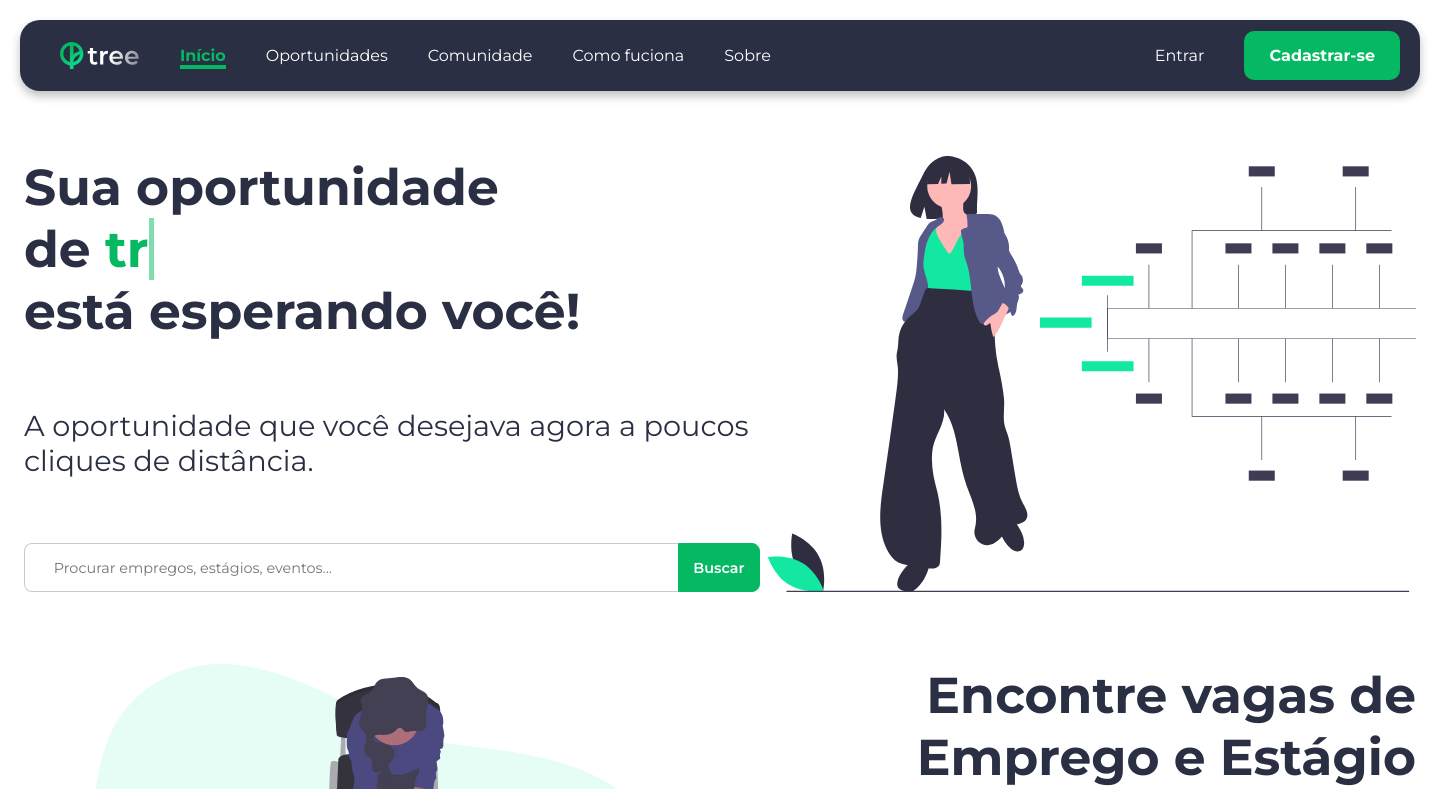
Scenario: Fluxo navbar › Checar pagína de Comunidade
Step 1. Click the link with test id "goCommunity" → x=481, y=56, box [428, 46, 533, 65]
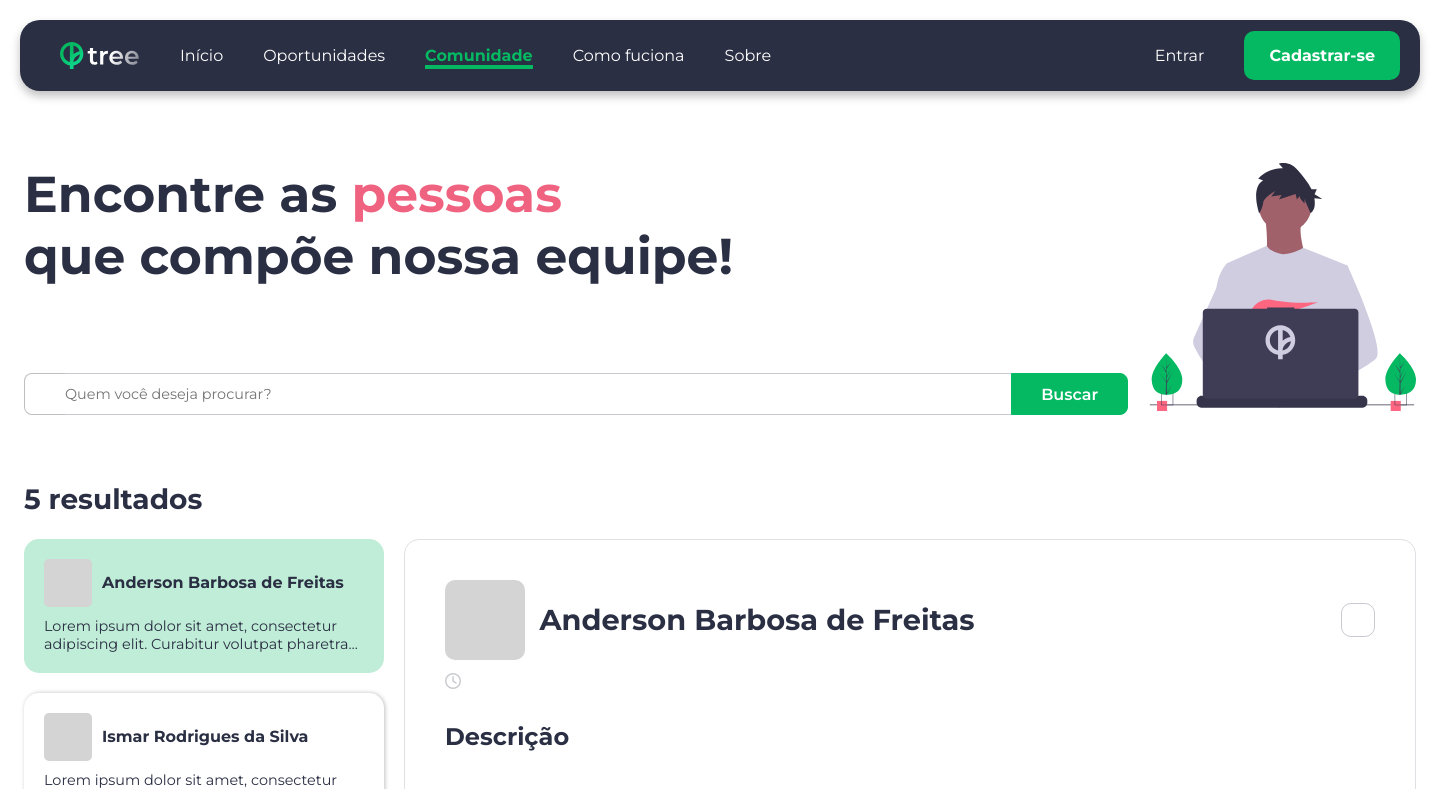
Now the heading "Encontre as" is shown, box [24, 163, 351, 225]
Now the text "pessoas" is shown, box [352, 163, 562, 225]
Now the heading "que compõe nossa equipe!" is shown, box [24, 225, 733, 287]
